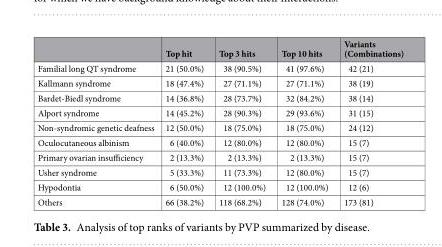table: (36, 37, 403, 207)
table column: (36, 37, 159, 207), (335, 37, 403, 207), (272, 37, 335, 207), (210, 37, 272, 207), (159, 37, 210, 207)
table column header: (36, 37, 403, 60)
table row: (36, 37, 403, 60), (36, 60, 403, 75), (36, 75, 403, 90), (36, 90, 403, 105), (36, 119, 403, 134), (36, 134, 403, 149), (36, 149, 403, 164), (36, 164, 403, 179), (36, 179, 403, 194), (36, 105, 403, 119), (36, 194, 403, 207)
